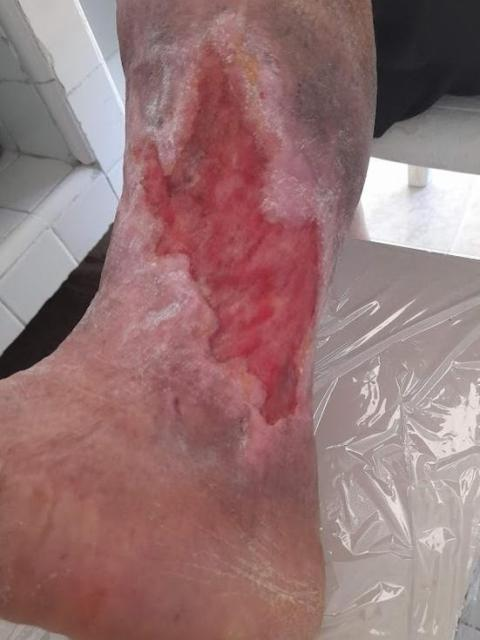wound: (132, 36, 325, 425)
